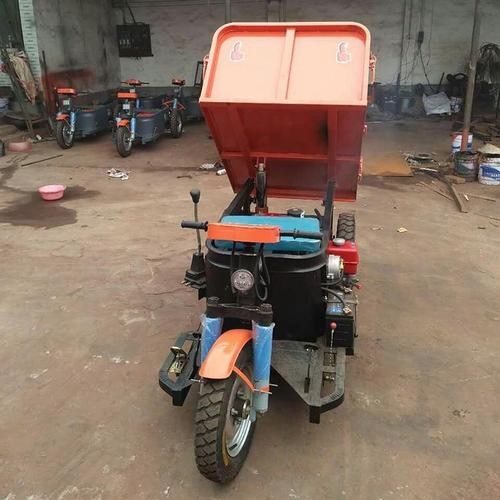tricycle: (159, 22, 368, 487)
